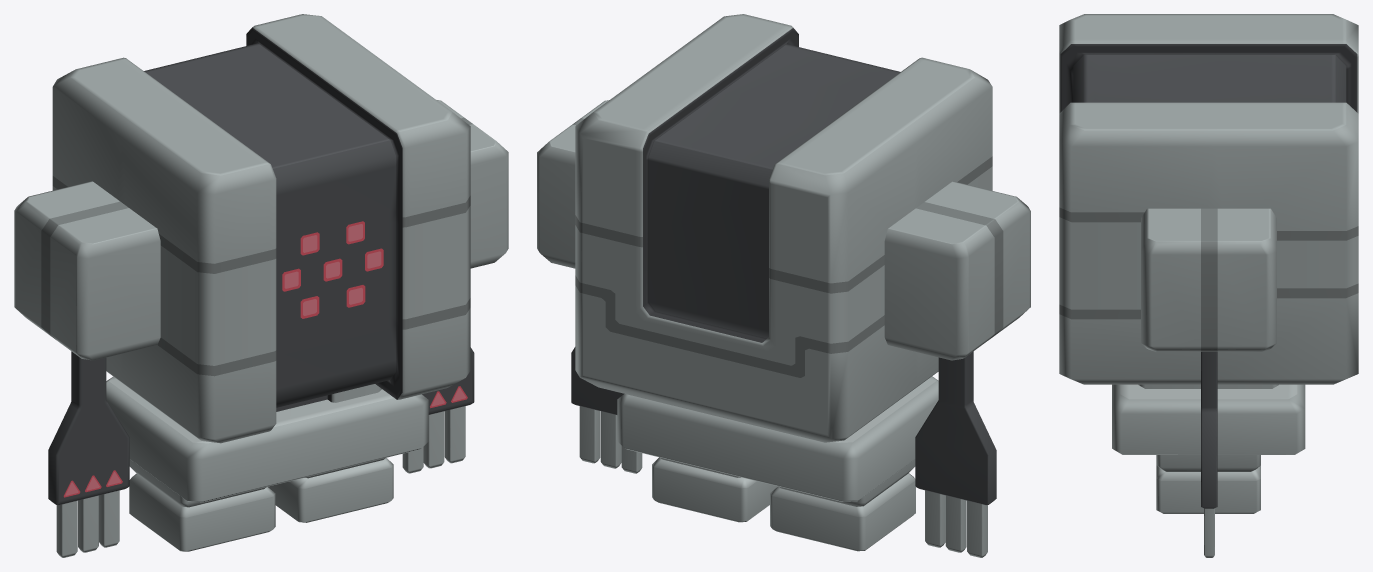
3 renders of one model, left to right at view 1: azimuth 30°, elevation 25°; view 2: azimuth 150°, elevation 25°; view 3: azimuth 270°, elevation 25°, orthographic. The views are drawn at different scales.
Parts seen in each view (by area): view 1: model; view 2: model; view 3: model.
Part boxes in pixels (<box>): model: <box>14,14,508,557</box>; model: <box>537,14,1030,557</box>; model: <box>1059,14,1358,557</box>.
Size of the model in its own units: 3.37 by 3.09 by 2.13.
